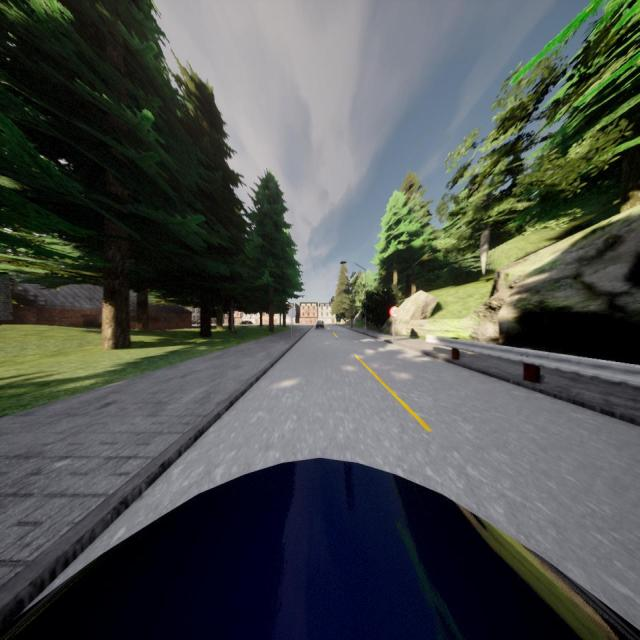Traffic_Signs: (388, 305, 400, 318)
Vehicle: (0, 456, 640, 640), (315, 320, 325, 330), (239, 320, 253, 324)
